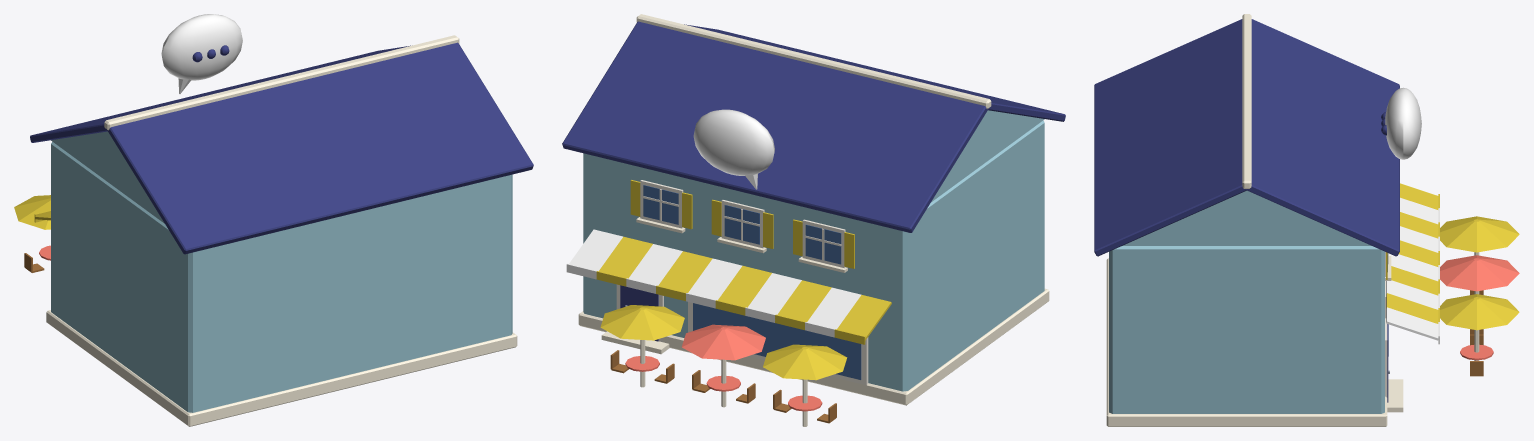
File: bld_d5_a.glb
3 renders of one model, left to right at view 1: azimuth 30°, elevation 25°; view 2: azimuth 150°, elevation 25°; view 3: azimuth 270°, elevation 25°, orthographic. The views are drawn at different scales.
Visible parts, largest first — view 1: bld_d5_a; view 2: bld_d5_a; view 3: bld_d5_a.
Boxes of the visible parts, bbox=[...] form: bld_d5_a: bbox=[14, 14, 533, 426]; bld_d5_a: bbox=[562, 14, 1065, 426]; bld_d5_a: bbox=[1094, 14, 1519, 426].
Bounding box in the file's own units: 13 × 9.28 × 13.89.
